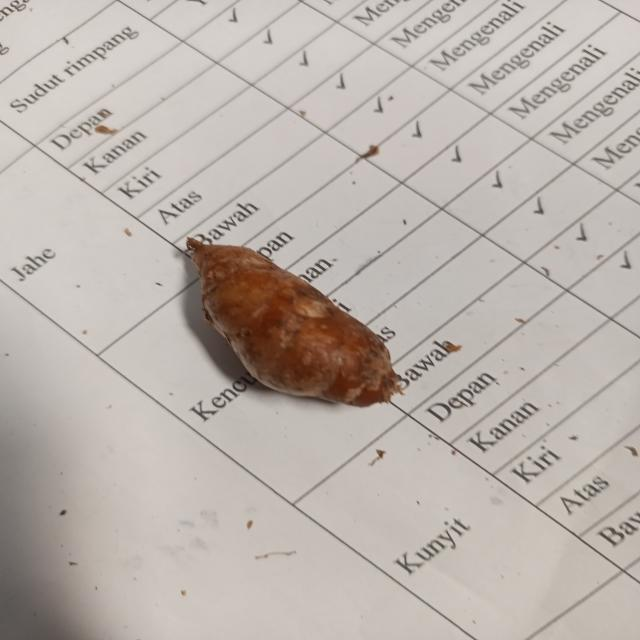ginger: (196, 234, 420, 410)
